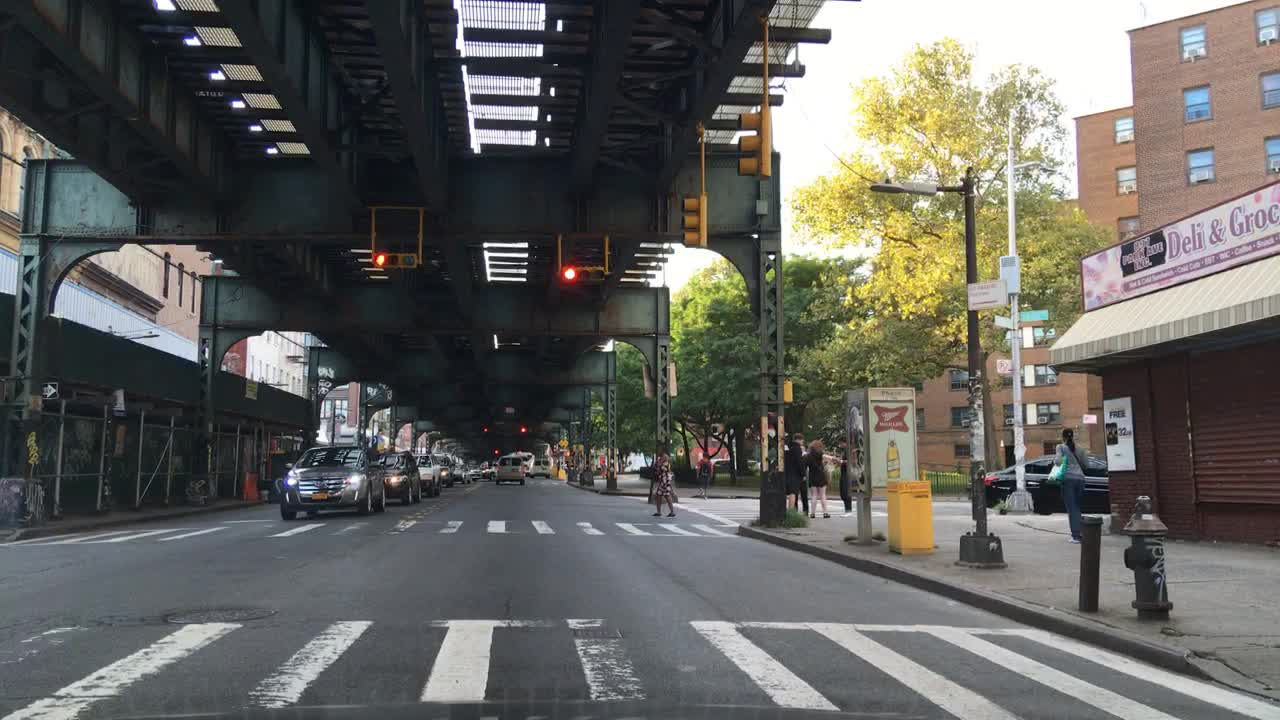car: (275, 440, 389, 515), (980, 451, 1114, 511), (374, 451, 423, 502), (411, 451, 443, 495), (495, 454, 527, 485), (432, 454, 461, 479), (529, 457, 555, 477), (460, 460, 481, 480), (480, 463, 495, 479)
person: (1048, 420, 1095, 544), (645, 442, 678, 519), (804, 437, 836, 515), (834, 433, 856, 509), (785, 429, 805, 512), (693, 446, 712, 498)
traffic light: (735, 105, 773, 176), (681, 193, 708, 247), (563, 267, 607, 284), (372, 251, 418, 267), (481, 420, 490, 436), (518, 423, 529, 436), (492, 445, 500, 457)
traffic sign: (966, 281, 1006, 310), (39, 380, 60, 402), (1019, 308, 1052, 319), (994, 317, 1014, 335), (995, 358, 1012, 375)
